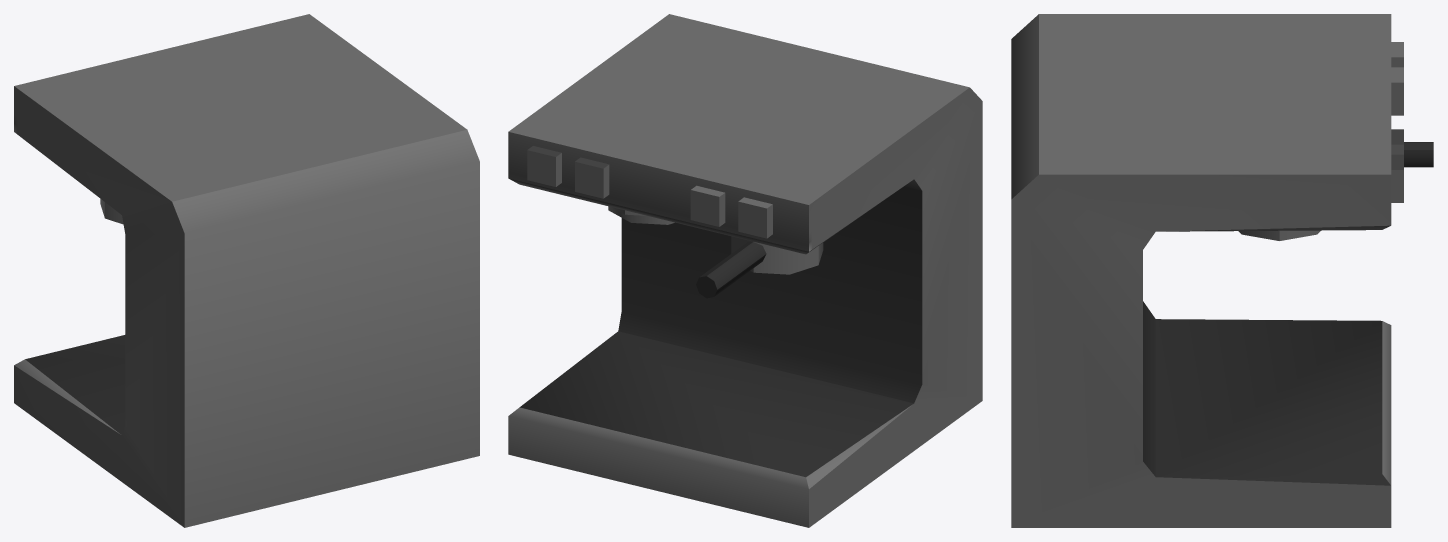
The model's file is Maquina de Cafe.fbx.
3 renders of one model, left to right at view 1: azimuth 30°, elevation 25°; view 2: azimuth 150°, elevation 25°; view 3: azimuth 270°, elevation 25°, orthographic. The views are drawn at different scales.
Parts seen in each view (by area): view 1: MaquinaCafe; view 2: MaquinaCafe; view 3: MaquinaCafe.
Part boxes in pixels (left/top/right/bottom): MaquinaCafe: left=14, top=14, right=479, bottom=527; MaquinaCafe: left=508, top=14, right=982, bottom=527; MaquinaCafe: left=1011, top=14, right=1433, bottom=527.
Size of the model in its own units: 69.31 by 71.12 by 77.08.
